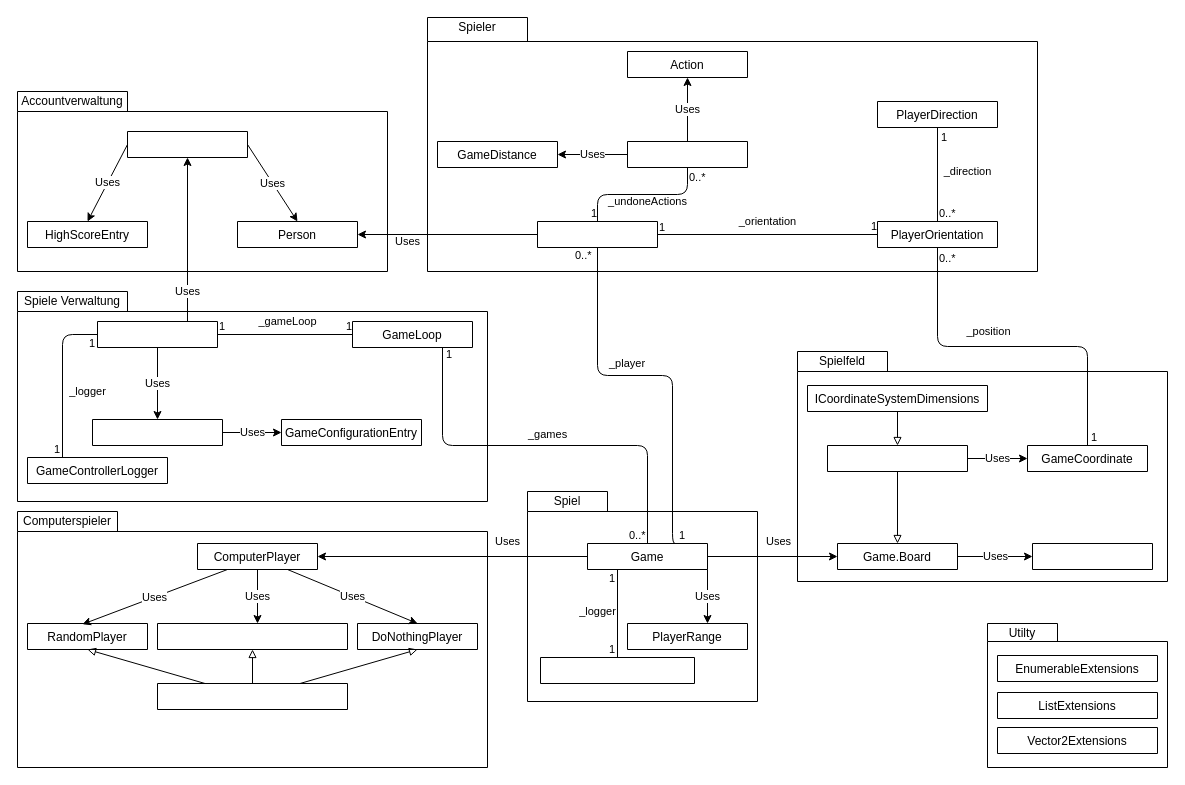
This 1185x785 diagram has some shape labels left out. Here are the shapes that lost their labels. From the top down, the centre of each, then its label:
(187,144): PersonDatabase
(687,154): PlayerAction
(597,234): Player
(157,334): GameController
(157,432): GameConfiguration
(897,458): CoordinateSystem
(1092,556): BoardDimensions
(252,636): RandomNotKillingItselfPlayer
(617,670): GameInformationLogger
(252,696): IComputerPlayer
